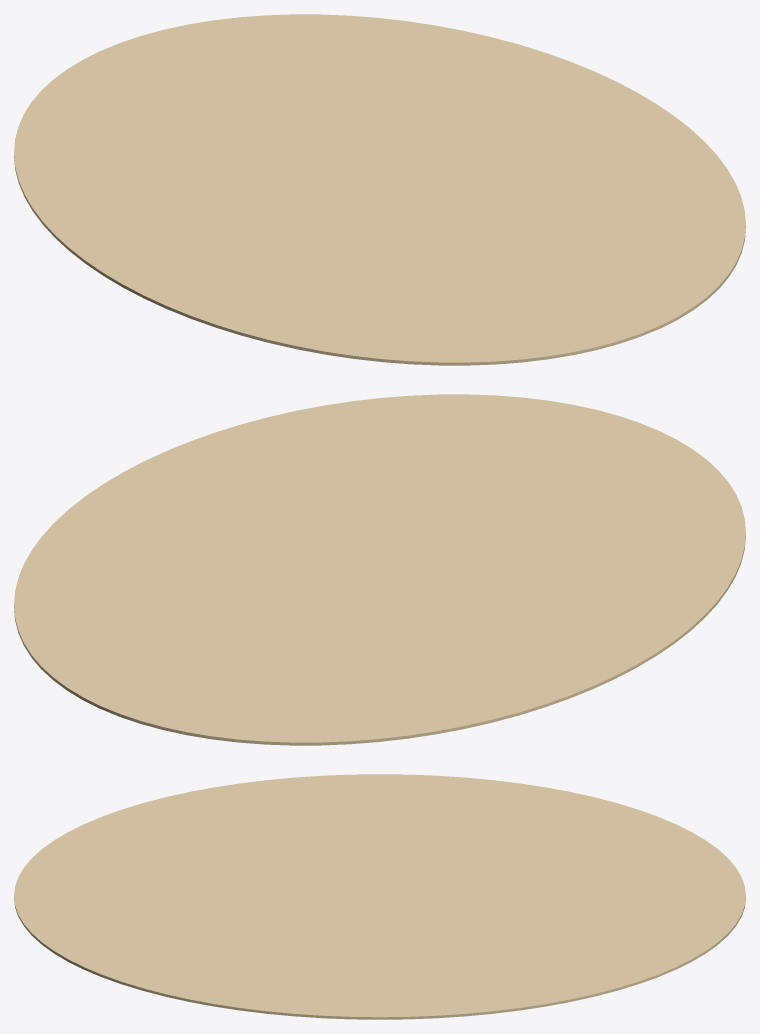
3 renders of one model, top to bottom at view 1: azimuth 30°, elevation 25°; view 2: azimuth 150°, elevation 25°; view 3: azimuth 270°, elevation 25°, orthographic. The views are drawn at different scales.
Parts seen in each view (by area): view 1: Mesh_WovenRug; view 2: Mesh_WovenRug; view 3: Mesh_WovenRug.
Boxes of the visible parts, bbox=[...] form: Mesh_WovenRug: bbox=[14, 14, 745, 365]; Mesh_WovenRug: bbox=[14, 394, 745, 745]; Mesh_WovenRug: bbox=[14, 774, 745, 1019].
Bounding box in the file's own units: 3.3 × 0.016 × 4.2.
